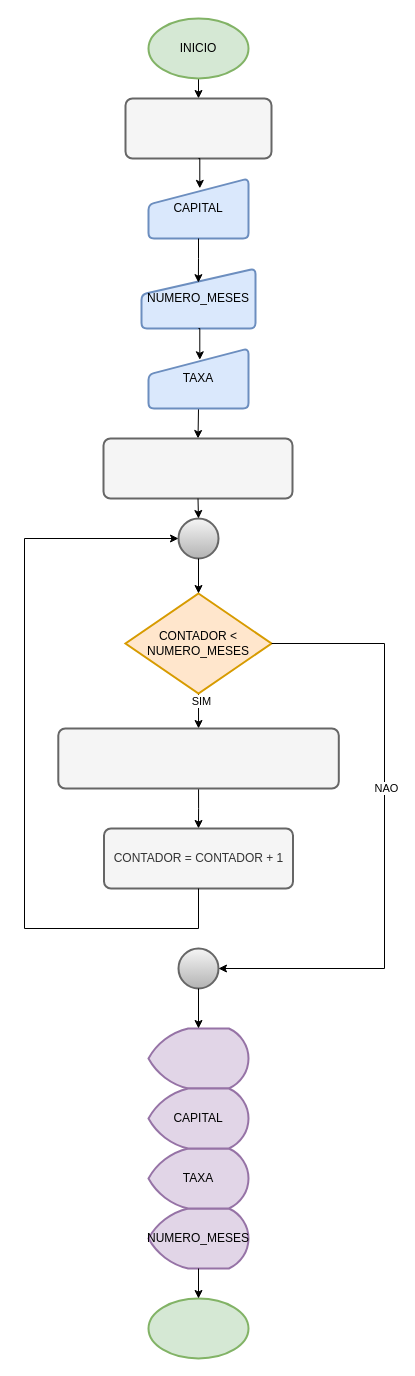
This 415x1376 diagram has some shape labels left out. Here are the shapes that lost their labels. From the top down, the centre of each, then its label:
At point 198,128: "CAPITAL_FINAL = 0 CONTADOR = 0".
At point 197,468: "CAPITAL_FINAL = CAPITAL".
At point 198,758: "CAPITAL_FINAL = CAPITAL_FINAL + (CAPITAL_FINAL * TAXA)".
At point 198,1058: "CAPITAL_FINAL".
At point 198,1328: "FIM".
